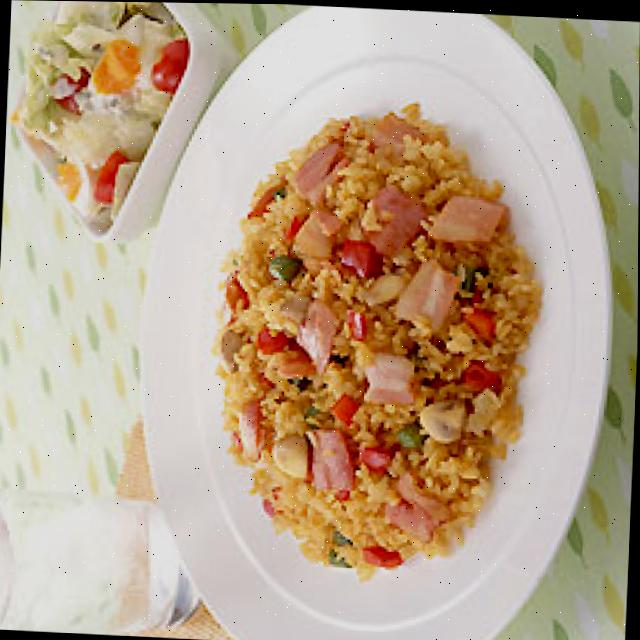米饭主食: (315, 5, 640, 640)
